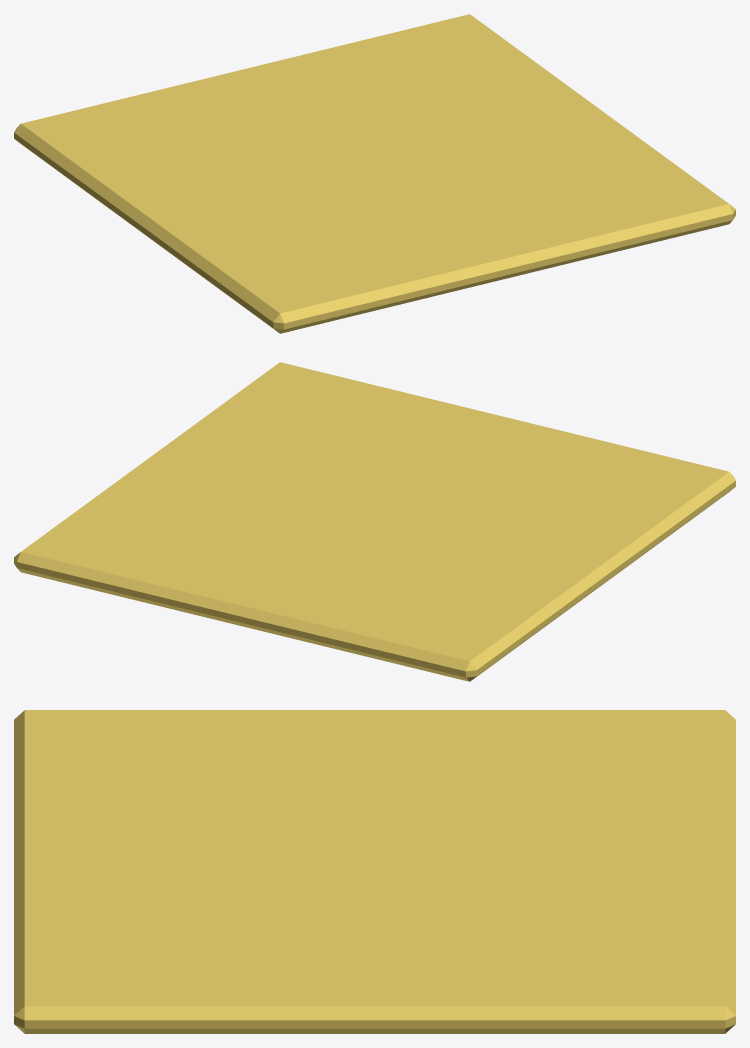
File: cheese.fbx
3 renders of one model, top to bottom at view 1: azimuth 30°, elevation 25°; view 2: azimuth 150°, elevation 25°; view 3: azimuth 270°, elevation 25°, orthographic. The views are drawn at different scales.
Visible parts, largest first — view 1: Cube; view 2: Cube; view 3: Cube.
Part boxes in pixels (x1=…): Cube: x1=14, y1=14, x2=735, y2=333; Cube: x1=14, y1=362, x2=735, y2=681; Cube: x1=14, y1=710, x2=735, y2=1033.
Bounding box in the file's own units: 147 × 6.22 × 147.
